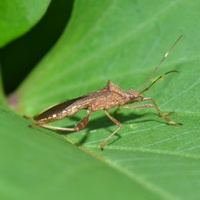insect: (26, 35, 181, 150)
